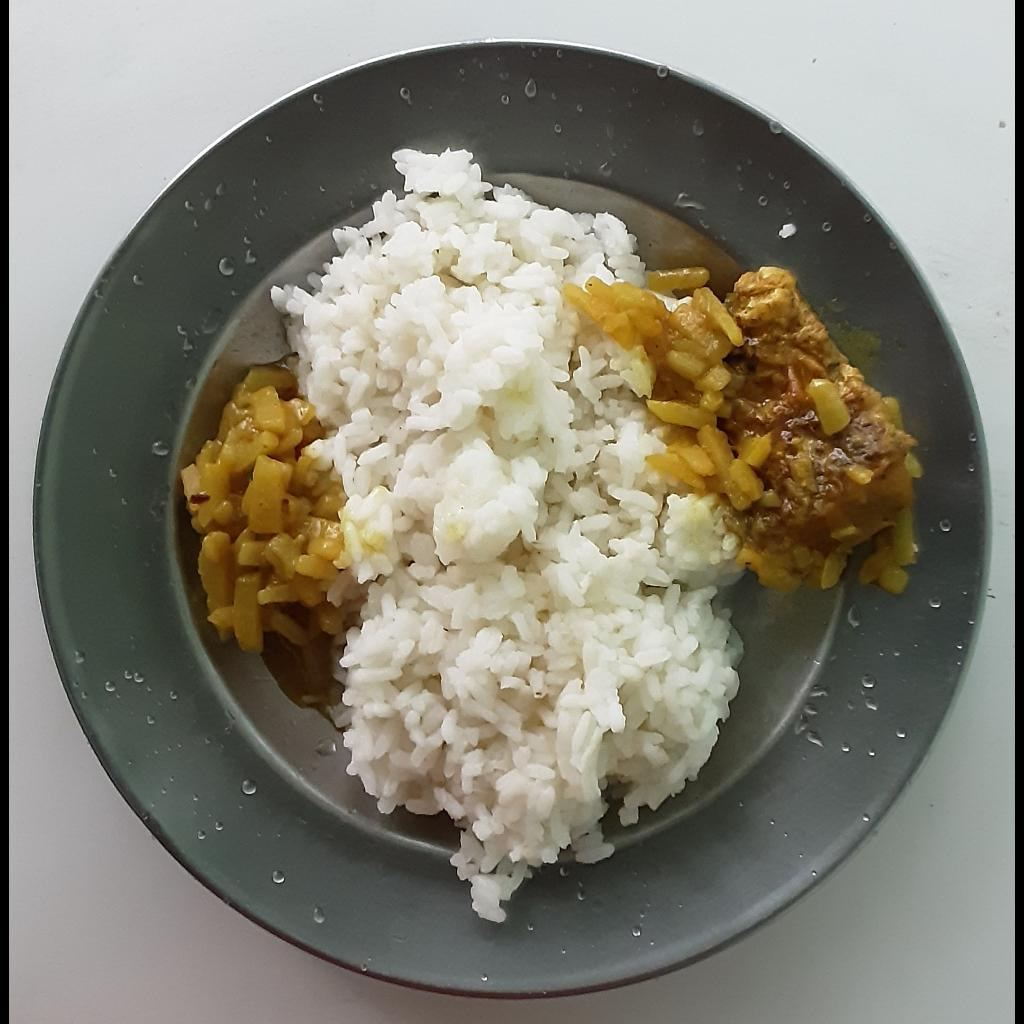fish: (728, 261, 923, 592)
potato: (180, 367, 342, 713), (571, 265, 775, 511)
rice: (274, 149, 746, 920)
